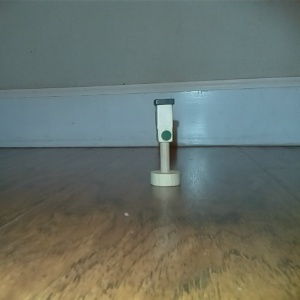traffic light green: (148, 96, 182, 188)
